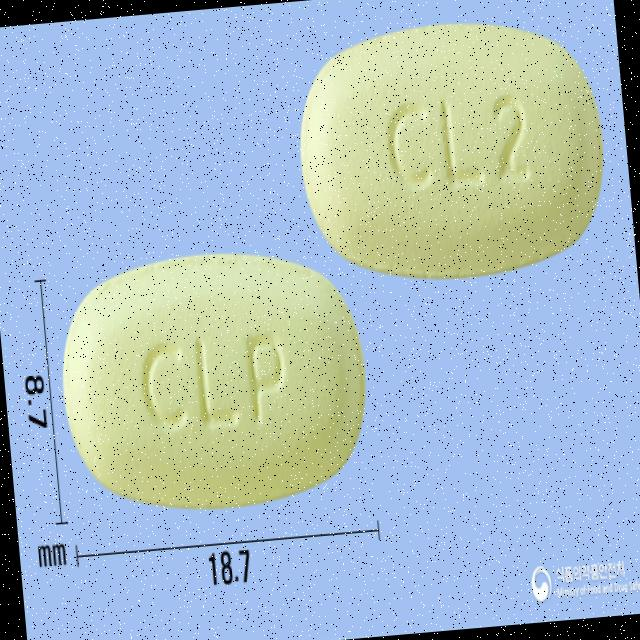Celltrion Clarithromycin: (288, 7, 618, 297), (50, 236, 377, 526)
